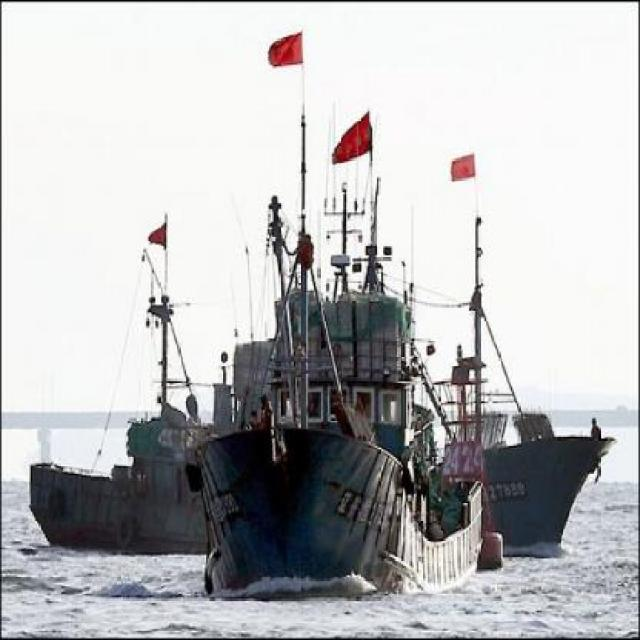Ship: (187, 210, 409, 603)
